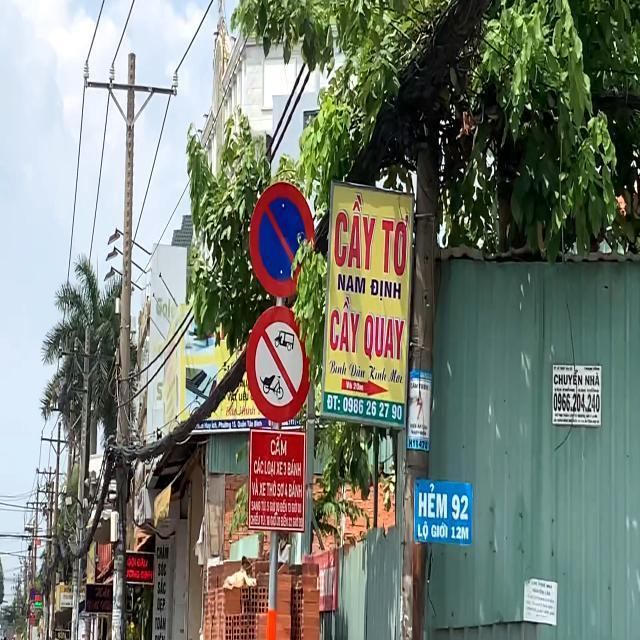131a-cam-do-xe: (248, 182, 316, 295)
